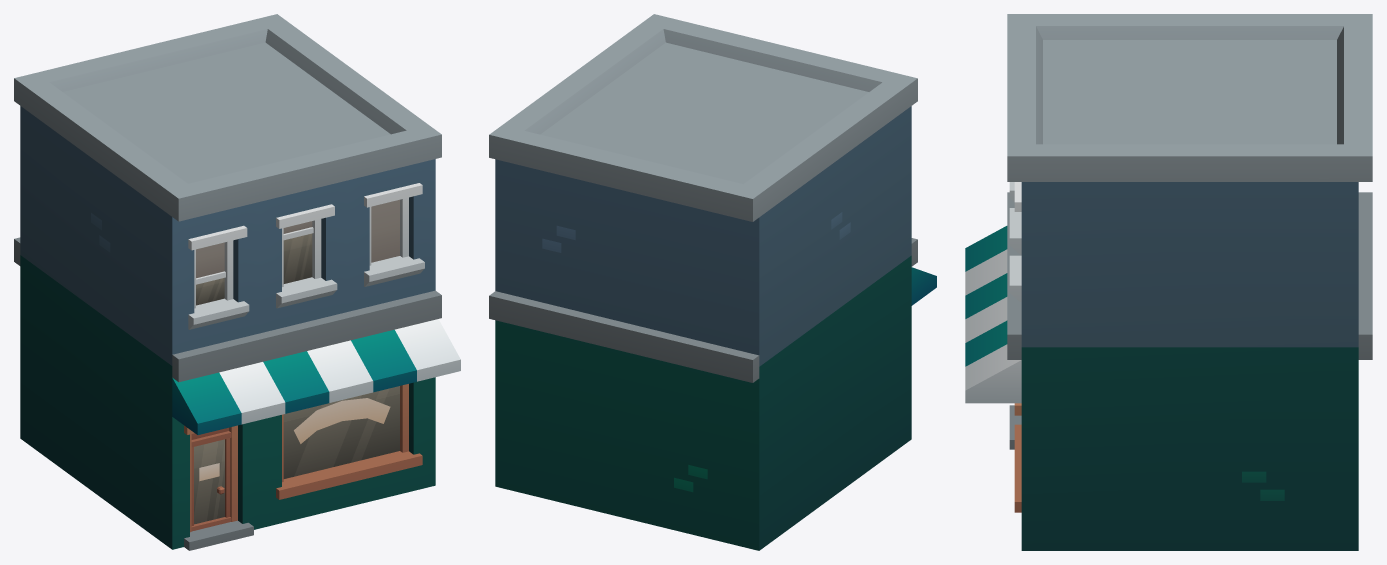
The model's file is building_A_withoutBase.glb.
The picture shows the model from 3 angles, left to right: view 1: azimuth 30°, elevation 25°; view 2: azimuth 150°, elevation 25°; view 3: azimuth 270°, elevation 25°; orthographic projection. The views are drawn at different scales.
Visible parts, largest first — view 1: building_A_withoutBase; view 2: building_A_withoutBase; view 3: building_A_withoutBase.
Part boxes in pixels (x1,y1,x2,y2): building_A_withoutBase: (14, 14, 460, 550); building_A_withoutBase: (489, 14, 936, 550); building_A_withoutBase: (965, 14, 1372, 550).
Bounding box in the file's own units: 1.21 × 1.55 × 1.45.
Materials: 1 (1 with a texture image).
